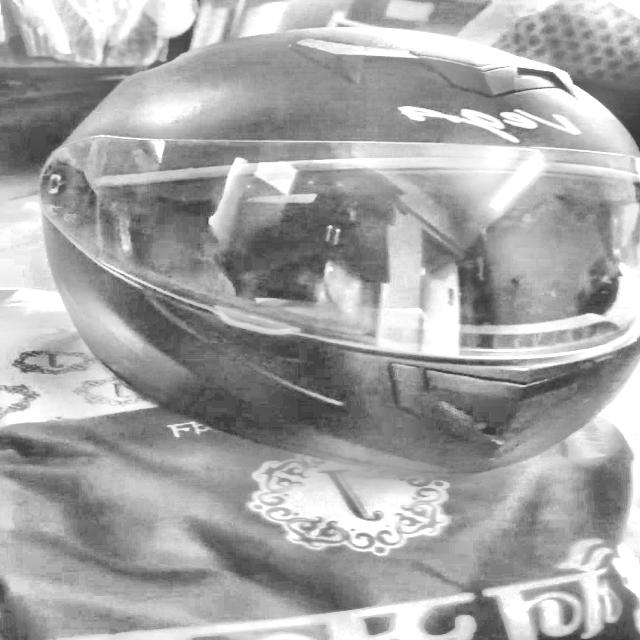Helmet: (37, 13, 640, 485)
